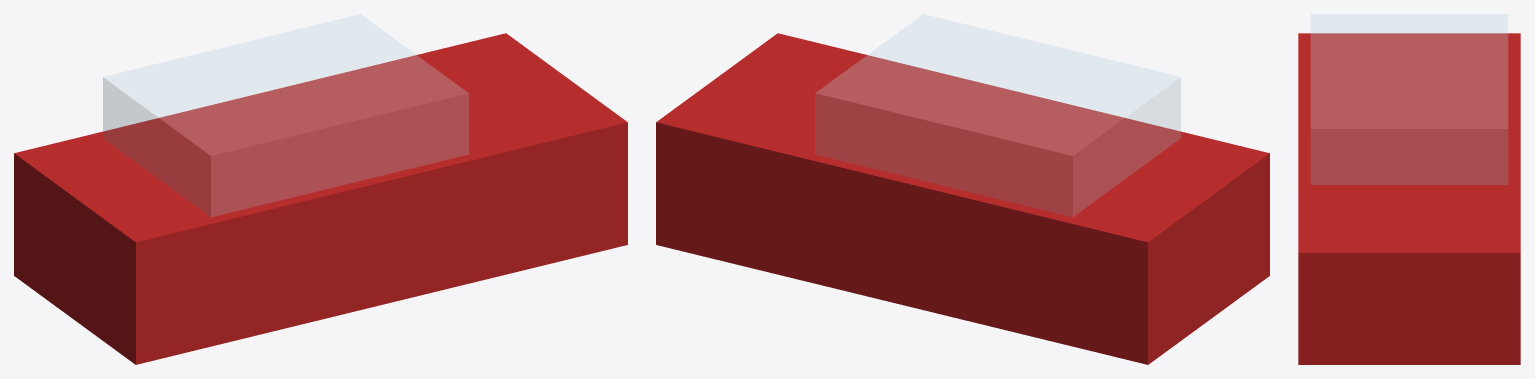
The model's file is coche.glb.
The picture shows the model from 3 angles, left to right: view 1: azimuth 30°, elevation 25°; view 2: azimuth 150°, elevation 25°; view 3: azimuth 270°, elevation 25°; orthographic projection. The views are drawn at different scales.
Bounding box in the file's own units: 4.2 × 1.5 × 1.8.
